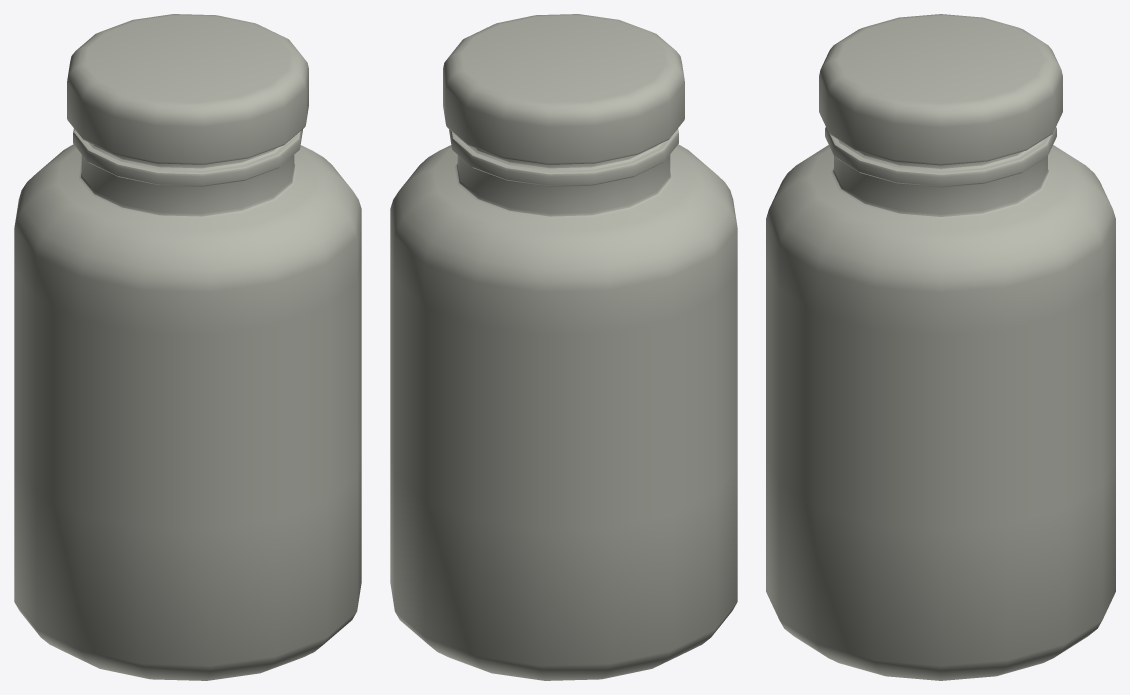
File: Pill Bottle.fbx
3 views of the same model, side by side, from view 1: azimuth 30°, elevation 25°; view 2: azimuth 150°, elevation 25°; view 3: azimuth 270°, elevation 25° (orthographic).
Visible parts, largest first — view 1: pills_bottle, pills_bottle_cover; view 2: pills_bottle, pills_bottle_cover; view 3: pills_bottle, pills_bottle_cover.
Boxes of the visible parts, x1,y1,x2,y2 form: pills_bottle: (14, 129, 361, 680); pills_bottle_cover: (67, 14, 308, 164); pills_bottle: (390, 129, 737, 680); pills_bottle_cover: (443, 14, 684, 164); pills_bottle: (766, 127, 1115, 680); pills_bottle_cover: (819, 14, 1062, 165).
Size of the model in its own units: 10.51 by 18.89 by 10.51.
2 materials, 2 textured.
